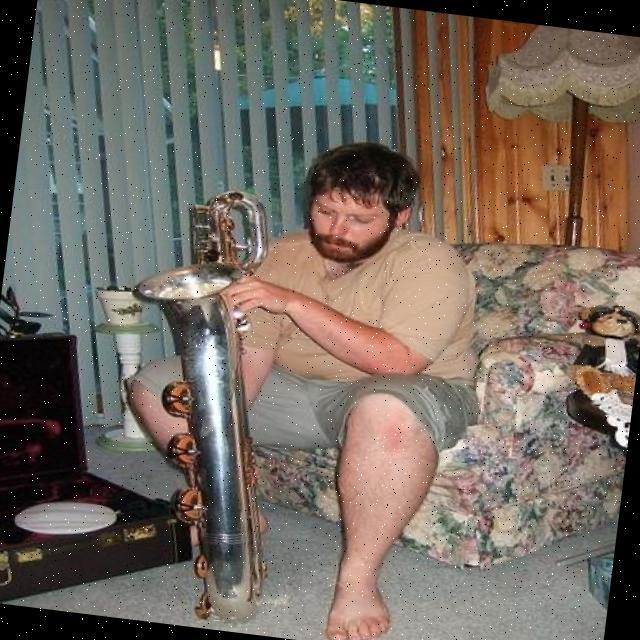saxophone: (87, 172, 334, 635)
